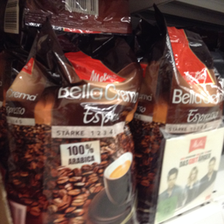coffee: (5, 21, 139, 224), (137, 22, 224, 224)
